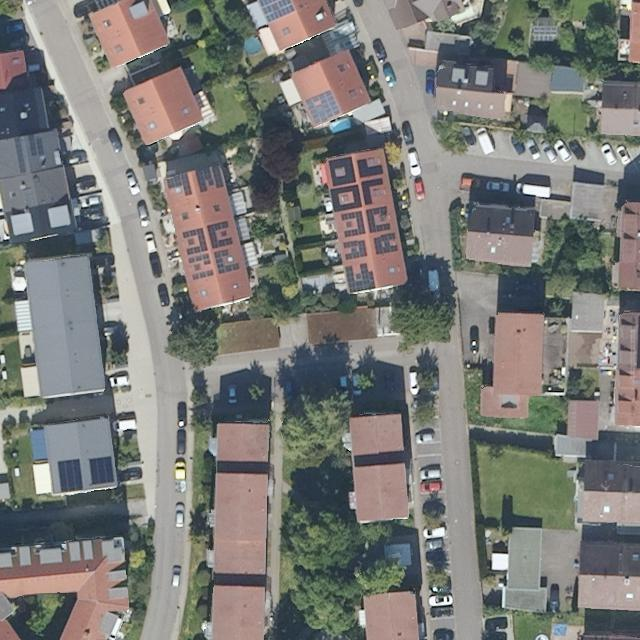PV: (302, 88, 342, 127), (190, 161, 228, 196), (56, 457, 86, 495), (344, 262, 377, 295), (204, 219, 236, 252), (258, 0, 297, 27), (180, 223, 210, 257), (329, 183, 363, 213), (326, 155, 357, 187), (87, 454, 117, 487), (166, 170, 195, 200), (212, 248, 241, 277), (340, 210, 367, 239), (365, 205, 391, 234), (360, 177, 384, 206), (342, 238, 369, 261), (13, 136, 28, 176), (373, 233, 400, 255), (356, 158, 385, 178), (27, 131, 45, 158), (185, 252, 213, 267), (190, 267, 216, 282)
